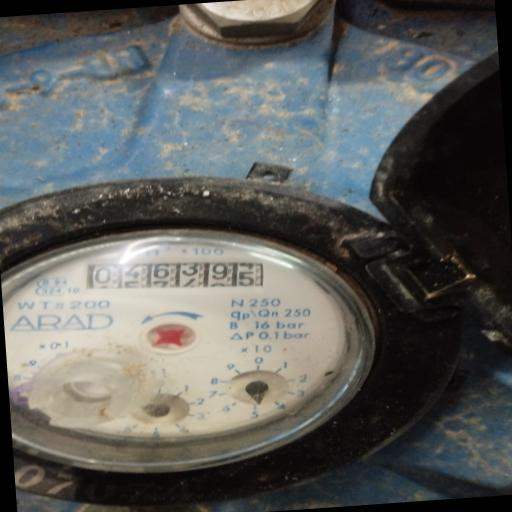0: (92, 266, 116, 286)
3: (181, 262, 202, 278)
4: (120, 263, 148, 279)
5: (234, 268, 258, 289)
6: (150, 262, 174, 280)
9: (209, 262, 232, 282)
medida: (83, 262, 268, 290)
